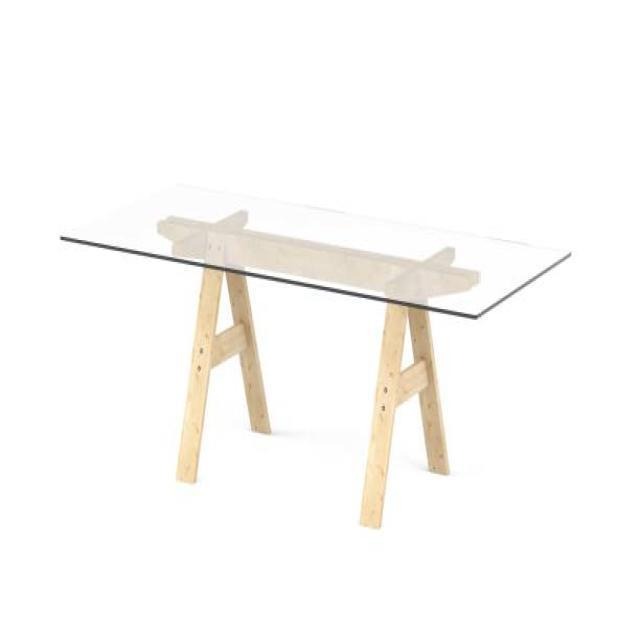table: (59, 181, 572, 528)
